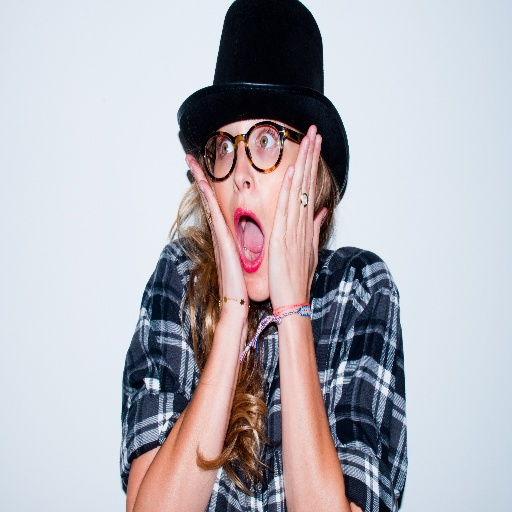hand: (184, 153, 249, 318), (267, 154, 324, 328)
